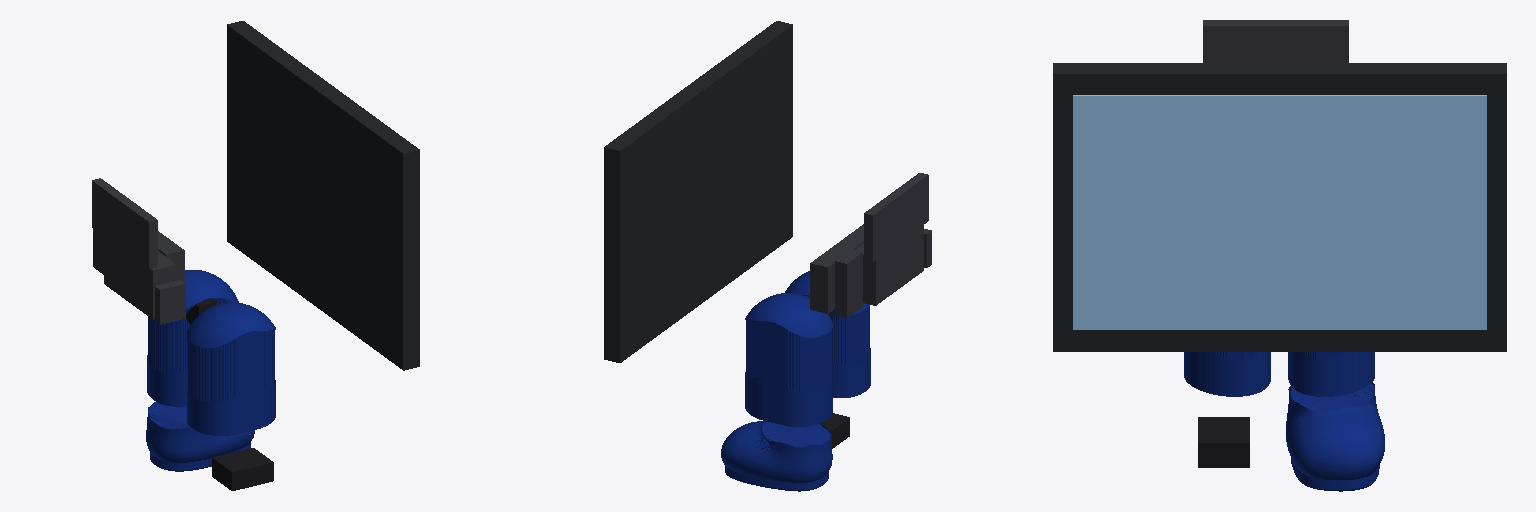
The robot description file, URDF, robot "haetburi":
<?xml version="1.0"?>
<!-- Haetburi biped (v21_sts3032) - generated by tools/build_model.py, do not edit by hand -->
<robot name="haetburi">
  <mujoco>
    <compiler meshdir="." balanceinertia="true" discardvisual="false" strippath="false" fusestatic="false"/>
  </mujoco>
  <material name="display"><color rgba="0.18 0.19 0.21 1"/></material>
  <material name="screen"><color rgba="0.62 0.80 0.95 1"/></material>
  <material name="shell"><color rgba="0.106 0.216 0.541 1"/></material>
  <material name="motor"><color rgba="0.15 0.15 0.17 1"/></material>
  <material name="foot"><color rgba="0.25 0.25 0.28 1"/></material>
  <link name="world"/>
  <joint name="floating_base" type="floating">
    <parent link="world"/><child link="pelvis"/>
    <origin xyz="0 0 0" rpy="0 0 0"/>
  </joint>
  <link name="pelvis">
    <inertial>
      <origin xyz="-0.00931038 0.000514553 0.0382518" rpy="0 0 0"/>
      <mass value="0.378024"/>
      <inertia ixx="0.000431883" ixy="-4.27969e-06" ixz="0.000176369" iyy="0.00049327" iyz="-6.56762e-06" izz="0.000471962"/>
    </inertial>
    <visual><origin xyz="0 0 0" rpy="0 0 0"/><geometry><mesh filename="meshes/pelvis.stl"/></geometry><material name="shell"/></visual>
    <visual><origin xyz="0.00500246 0.0183704 0.0215" rpy="0 0 0"/><geometry><box size="0.012 0.0275 0.023"/></geometry><material name="motor"/></visual>
    <visual><origin xyz="0.00499754 -0.0181526 0.0195" rpy="0 0 0"/><geometry><box size="0.012 0.0275 0.023"/></geometry><material name="motor"/></visual>
    <visual><origin xyz="-0.04564 -0.00588 0.068" rpy="0 0 0"/><geometry><box size="0.016 0.056 0.031"/></geometry><material name="foot"/></visual>
    <visual><origin xyz="-0.02964 0.01412 0.068" rpy="0 0 0"/><geometry><box size="0.012 0.065 0.03"/></geometry><material name="foot"/></visual>
    <visual><origin xyz="-0.05364 -0.00188 0.1" rpy="0 0 0"/><geometry><box size="0.006 0.065 0.03"/></geometry><material name="foot"/></visual>
    <visual><origin xyz="-0.04364 0.03612 0.07" rpy="0 0 0"/><geometry><box size="0.008 0.018 0.035"/></geometry><material name="foot"/></visual>
    <visual><origin xyz="-0.04564 -0.03988 0.064" rpy="0 0 0"/><geometry><box size="0.017 0.006 0.022"/></geometry><material name="foot"/></visual>
    <collision><origin xyz="0.00697563 -0.000136661 0.0314" rpy="0 0 0"/><geometry><box size="0.0836344 0.111062 0.0348"/></geometry></collision>
  </link>
  <link name="torso">
    <inertial>
      <origin xyz="0.0242433 7.67415e-05 0.103843" rpy="0 0 0"/>
      <mass value="1.63093"/>
      <inertia ixx="0.0213251" ixy="-4.86061e-05" ixz="0.00369192" iyy="0.0210286" iyz="-5.19119e-05" izz="0.0121445"/>
    </inertial>
    <visual><origin xyz="0 0 0" rpy="0 0 0"/><geometry><mesh filename="meshes/torso.stl"/></geometry><material name="shell"/></visual>
    <visual><origin xyz="0.0784825 0 0.0374296" rpy="0 0 0"/><geometry><box size="0.01104 0.20208 0.136608"/></geometry><material name="display"/></visual>
    <visual><origin xyz="0.0840025 0 0.0374296" rpy="0 0 0"/><geometry><box size="0.0004 0.18432 0.1152"/></geometry><material name="screen"/></visual>
    <collision><origin xyz="-0.036439 -1.6963e-06 0.0268832" rpy="0 0 0"/><geometry><box size="0.17104 0.115978 0.114213"/></geometry></collision>
    <collision><origin xyz="0.044496 0.0898351 0.0541718" rpy="0 0 0"/><geometry><sphere radius="0.0649829"/></geometry></collision>
    <collision><origin xyz="0.0448036 -0.0899729 0.0541718" rpy="0 0 0"/><geometry><sphere radius="0.0649205"/></geometry></collision>
    <collision><origin xyz="-0.005585 0.000285622 0.109669" rpy="0 0 0"/><geometry><sphere radius="0.111459"/></geometry></collision>
    <collision><origin xyz="-0.00973205 -0.000131314 0.160993" rpy="0 0 0"/><geometry><sphere radius="0.12859"/></geometry></collision>
    <collision><origin xyz="-0.0148192 -0.00021673 0.212326" rpy="0 0 0"/><geometry><sphere radius="0.127101"/></geometry></collision>
    <collision><origin xyz="-0.0116256 0.000915539 0.263656" rpy="0 0 0"/><geometry><sphere radius="0.110519"/></geometry></collision>
    <collision><origin xyz="-0.00687921 0.00724674 0.315018" rpy="0 0 0"/><geometry><sphere radius="0.0787743"/></geometry></collision>
    <collision><origin xyz="-0.0126071 -0.00239521 0.366334" rpy="0 0 0"/><geometry><sphere radius="0.0457151"/></geometry></collision>
    <collision><origin xyz="0.0784825 0 0.0374296" rpy="0 0 0"/><geometry><box size="0.01104 0.20208 0.136608"/></geometry></collision>
  </link>
  <link name="leg_l">
    <inertial>
      <origin xyz="-0.00106841 0.0040722 -0.0254884" rpy="0 0 0"/>
      <mass value="0.105613"/>
      <inertia ixx="6.46358e-05" ixy="3.63499e-07" ixz="-1.64187e-06" iyy="6.55002e-05" iyz="8.59554e-08" izz="2.56676e-05"/>
    </inertial>
    <visual><origin xyz="0 0 0" rpy="0 0 0"/><geometry><mesh filename="meshes/leg_l.stl"/></geometry><material name="shell"/></visual>
    <visual><origin xyz="0.00106951 0.0033 -0.0285" rpy="0 0 0"/><geometry><box size="0.012 0.0275 0.023"/></geometry><material name="motor"/></visual>
    <collision><origin xyz="0.000868299 0.00465604 -0.00771158" rpy="0 0 0"/><geometry><box size="0.0540024 0.0387917 0.0725768"/></geometry></collision>
  </link>
  <link name="ankle_l">
    <inertial>
      <origin xyz="0.00239784 -0.00136438 -0.0213" rpy="0 0 0"/>
      <mass value="0.0218531"/>
      <inertia ixx="6.2186e-06" ixy="0" ixz="0" iyy="4.03329e-06" iyz="0" izz="3.64219e-06"/>
    </inertial>
  </link>
  <link name="foot_l">
    <inertial>
      <origin xyz="0.000512288 0.00462479 -0.000920763" rpy="0 0 0"/>
      <mass value="0.0867579"/>
      <inertia ixx="1.73764e-05" ixy="-8.62792e-07" ixz="-2.11128e-07" iyy="2.63174e-05" iyz="-7.80465e-07" izz="3.05848e-05"/>
    </inertial>
    <visual><origin xyz="0 0 0" rpy="0 0 0"/><geometry><mesh filename="meshes/foot_l.stl"/></geometry><material name="shell"/></visual>
    <visual><origin xyz="0 0.0055 4.44089e-19" rpy="0 0 0"/><geometry><box size="0.0275 0.023 0.012"/></geometry><material name="motor"/></visual>
    <collision><origin xyz="0 0 0" rpy="0 0 0"/><geometry><mesh filename="meshes/foot_l.stl"/></geometry></collision>
  </link>
  <link name="leg_r">
    <inertial>
      <origin xyz="-0.00103144 -0.00455901 -0.0239097" rpy="0 0 0"/>
      <mass value="0.104922"/>
      <inertia ixx="6.13086e-05" ixy="-3.50149e-07" ixz="-1.61018e-06" iyy="6.21573e-05" iyz="-1.04851e-07" izz="2.53096e-05"/>
    </inertial>
    <visual><origin xyz="0 0 0" rpy="0 0 0"/><geometry><mesh filename="meshes/leg_r.stl"/></geometry><material name="shell"/></visual>
    <visual><origin xyz="0.00125821 -0.0038 -0.0265" rpy="0 0 0"/><geometry><box size="0.012 0.0275 0.023"/></geometry><material name="motor"/></visual>
    <collision><origin xyz="0.000869145 -0.00514726 -0.00676803" rpy="0 0 0"/><geometry><box size="0.0539781 0.0388443 0.0704639"/></geometry></collision>
  </link>
  <link name="ankle_r">
    <inertial>
      <origin xyz="0.00235946 0.00125788 -0.0213" rpy="0 0 0"/>
      <mass value="0.0218531"/>
      <inertia ixx="6.2186e-06" ixy="0" ixz="0" iyy="4.03329e-06" iyz="0" izz="3.64219e-06"/>
    </inertial>
  </link>
  <link name="foot_r">
    <inertial>
      <origin xyz="0.00040167 -0.00452023 -0.000959733" rpy="0 0 0"/>
      <mass value="0.0865718"/>
      <inertia ixx="1.7241e-05" ixy="8.98297e-07" ixz="-1.46734e-07" iyy="2.61841e-05" iyz="7.6138e-07" izz="3.04562e-05"/>
    </inertial>
    <visual><origin xyz="0 0 0" rpy="0 0 0"/><geometry><mesh filename="meshes/foot_r.stl"/></geometry><material name="shell"/></visual>
    <visual><origin xyz="0 -0.0055 4.44089e-19" rpy="0 0 0"/><geometry><box size="0.0275 0.023 0.012"/></geometry><material name="motor"/></visual>
    <collision><origin xyz="0 0 0" rpy="0 0 0"/><geometry><mesh filename="meshes/foot_r.stl"/></geometry></collision>
  </link>
  <joint name="waist_fixed" type="fixed">
    <parent link="pelvis"/><child link="torso"/>
    <origin xyz="0 0 0.0488" rpy="0 0 0"/>
  </joint>
  <joint name="hip_pitch_l" type="revolute">
    <parent link="pelvis"/><child link="leg_l"/>
    <origin xyz="0.00500246 0.0183704 0.016" rpy="0 0 0"/>
    <axis xyz="0 1 0"/>
    <limit lower="-0.506145" upper="0.436332" effort="0.44" velocity="11.6"/>
    <dynamics damping="0.03142857142857144" friction="0.012571428571428574"/>
  </joint>
  <joint name="hip_pitch_r" type="revolute">
    <parent link="pelvis"/><child link="leg_r"/>
    <origin xyz="0.00499754 -0.0181526 0.014" rpy="0 0 0"/>
    <axis xyz="0 1 0"/>
    <limit lower="-0.506145" upper="0.436332" effort="0.44" velocity="11.6"/>
    <dynamics damping="0.03142857142857144" friction="0.012571428571428574"/>
  </joint>
  <joint name="ankle_pitch_l" type="revolute">
    <parent link="leg_l"/><child link="ankle_l"/>
    <origin xyz="0.00106951 0.0033 -0.034" rpy="0 0 0"/>
    <axis xyz="0 1 0"/>
    <limit lower="-0.261799" upper="0.261799" effort="0.44" velocity="11.6"/>
    <dynamics damping="0.03142857142857144" friction="0.012571428571428574"/>
  </joint>
  <joint name="ankle_pitch_r" type="revolute">
    <parent link="leg_r"/><child link="ankle_r"/>
    <origin xyz="0.00125821 -0.0038 -0.032" rpy="0 0 0"/>
    <axis xyz="0 1 0"/>
    <limit lower="-0.261799" upper="0.261799" effort="0.44" velocity="11.6"/>
    <dynamics damping="0.03142857142857144" friction="0.012571428571428574"/>
  </joint>
  <joint name="ankle_roll_l" type="revolute">
    <parent link="ankle_l"/><child link="foot_l"/>
    <origin xyz="0.00479569 -0.00272877 -0.0426" rpy="0 0 0"/>
    <axis xyz="1 0 0"/>
    <limit lower="-0.261799" upper="0.261799" effort="0.44" velocity="11.6"/>
    <dynamics damping="0.03142857142857144" friction="0.012571428571428574"/>
  </joint>
  <joint name="ankle_roll_r" type="revolute">
    <parent link="ankle_r"/><child link="foot_r"/>
    <origin xyz="0.00471892 0.00251576 -0.0426" rpy="0 0 0"/>
    <axis xyz="1 0 0"/>
    <limit lower="-0.261799" upper="0.261799" effort="0.44" velocity="11.6"/>
    <dynamics damping="0.03142857142857144" friction="0.012571428571428574"/>
  </joint>
</robot>

--- What the picture shows (computed from the rendered views, not written in the file) ---
The picture shows the robot from 3 angles, left to right: view 1: azimuth 30°, elevation 25°; view 2: azimuth 150°, elevation 25°; view 3: azimuth 270°, elevation 25°; orthographic projection.
Robot: haetburi — 9 links, 8 joints (6 revolute, 1 fixed, 1 floating); root link world; default pose: every joint at zero.
Links seen in each view (by area): view 1: torso, leg_r, pelvis, leg_l, foot_l, foot_r; view 2: torso, leg_l, pelvis, foot_l, leg_r, foot_r; view 3: torso, foot_l, pelvis, leg_l, leg_r, foot_r.
Boxes of the visible links, left/top/right/bottom form: torso: left=227, top=21, right=419, bottom=370; leg_r: left=187, top=302, right=275, bottom=435; pelvis: left=92, top=178, right=216, bottom=324; leg_l: left=147, top=270, right=238, bottom=406; foot_l: left=146, top=402, right=254, bottom=471; foot_r: left=212, top=448, right=273, bottom=490; torso: left=604, top=21, right=792, bottom=362; leg_l: left=745, top=293, right=832, bottom=426; pelvis: left=807, top=173, right=931, bottom=317; foot_l: left=721, top=421, right=832, bottom=491; leg_r: left=785, top=271, right=870, bottom=397; foot_r: left=821, top=413, right=849, bottom=448; torso: left=1053, top=63, right=1506, bottom=351; foot_l: left=1286, top=382, right=1384, bottom=491; pelvis: left=1203, top=20, right=1348, bottom=62; leg_l: left=1288, top=352, right=1374, bottom=396; leg_r: left=1184, top=352, right=1270, bottom=396; foot_r: left=1198, top=417, right=1249, bottom=467.
Bounding box of the posed robot: 0.1408 × 0.2021 × 0.2251 m (x, y, z).
Meshes: 6 distinct files referenced, 3 mesh visuals loaded (3 binary STL); not drawn: 3 (reference not matched to a file when rendering).
